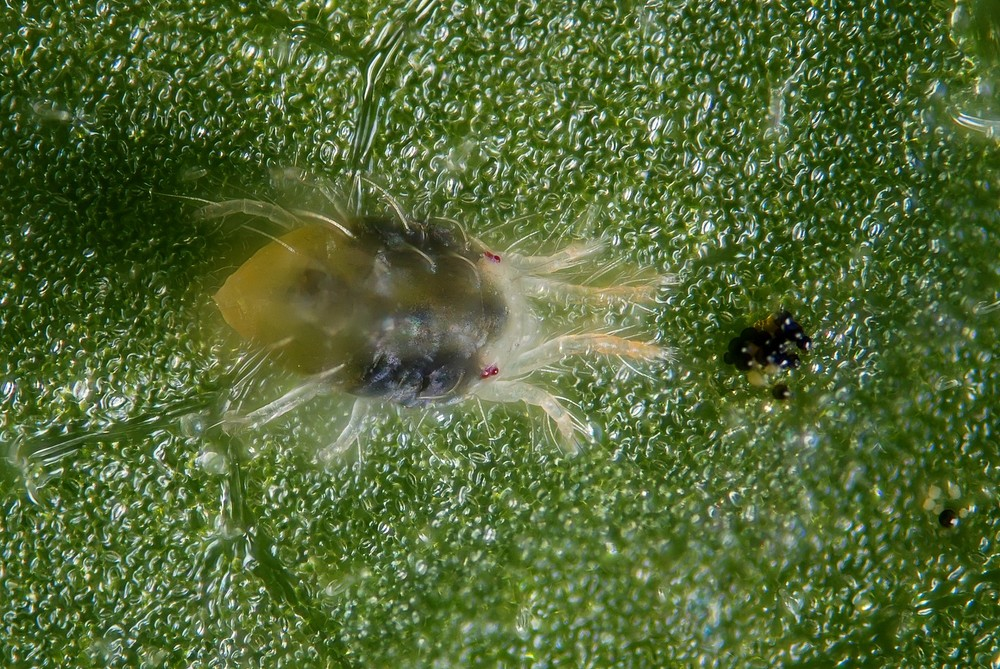Aracnido Rojo: (158, 155, 697, 480)
